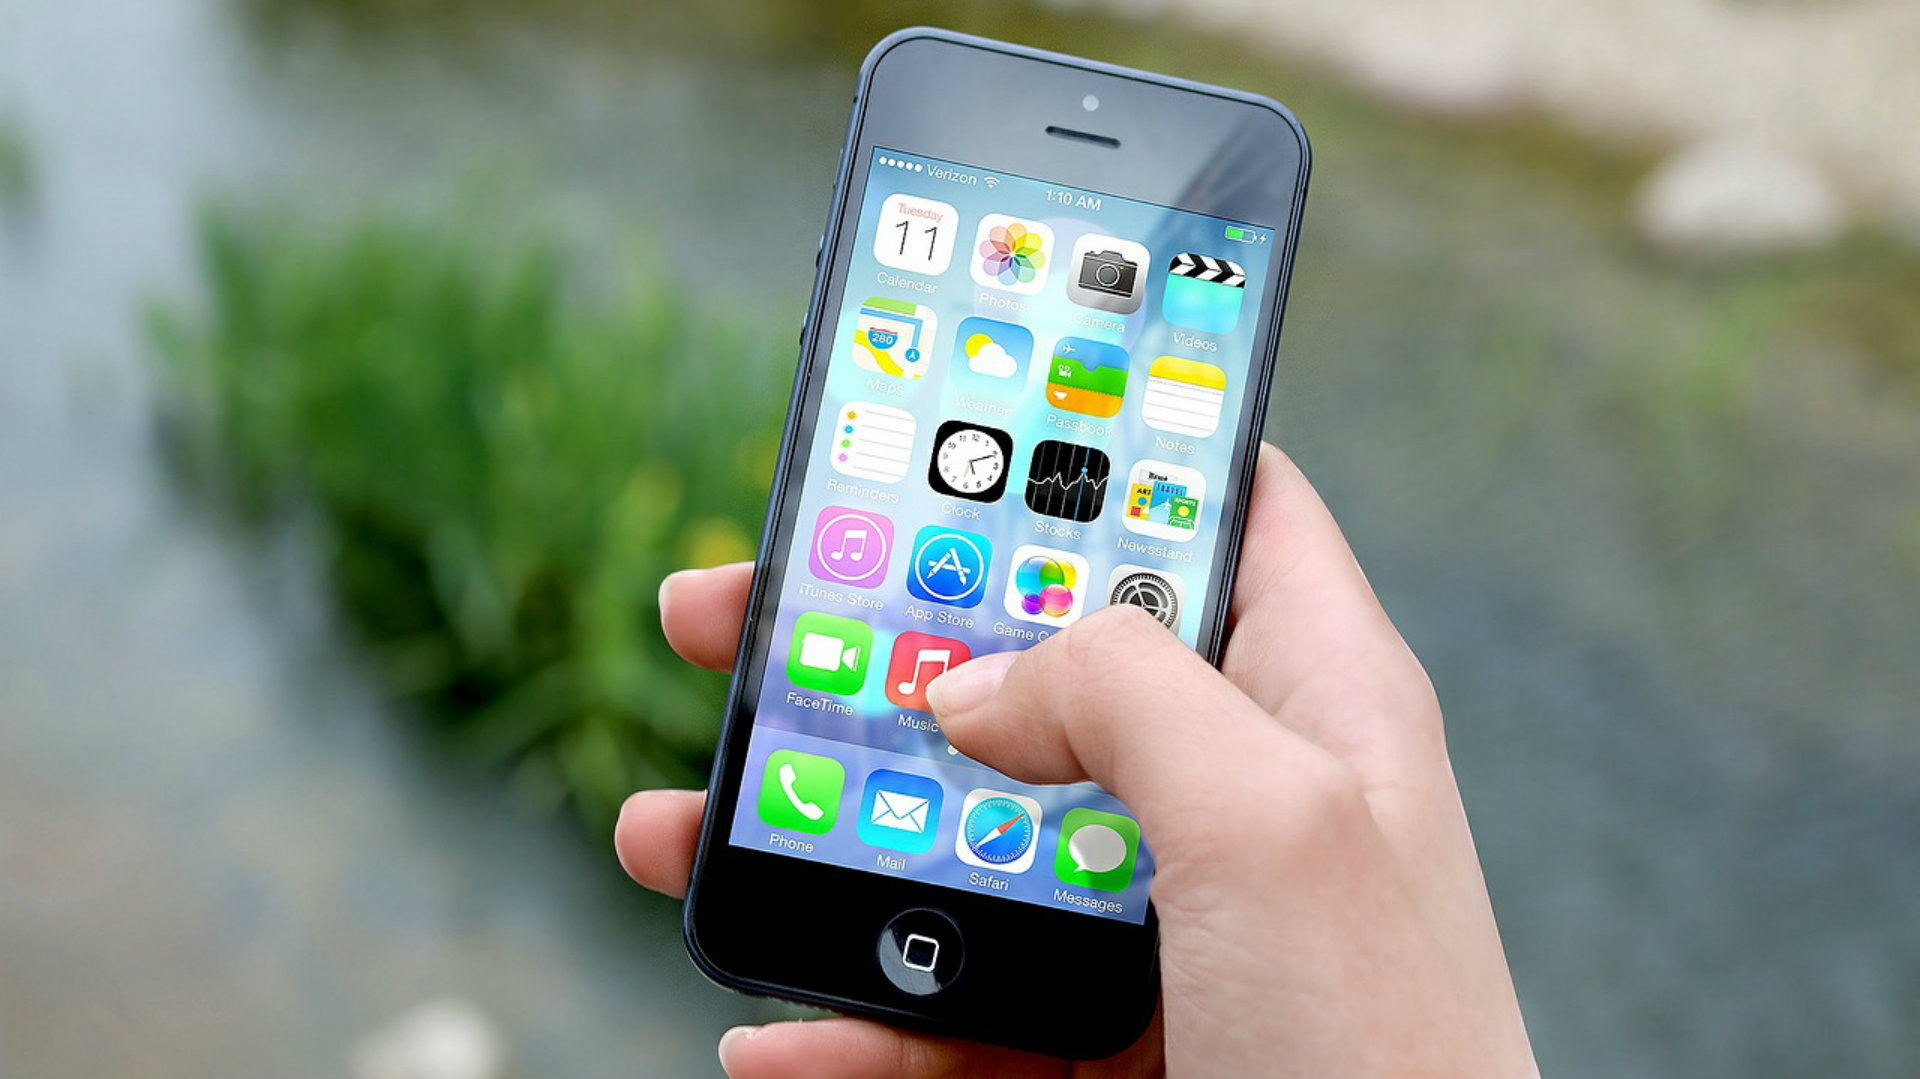smartphone: (684, 22, 1312, 1063)
